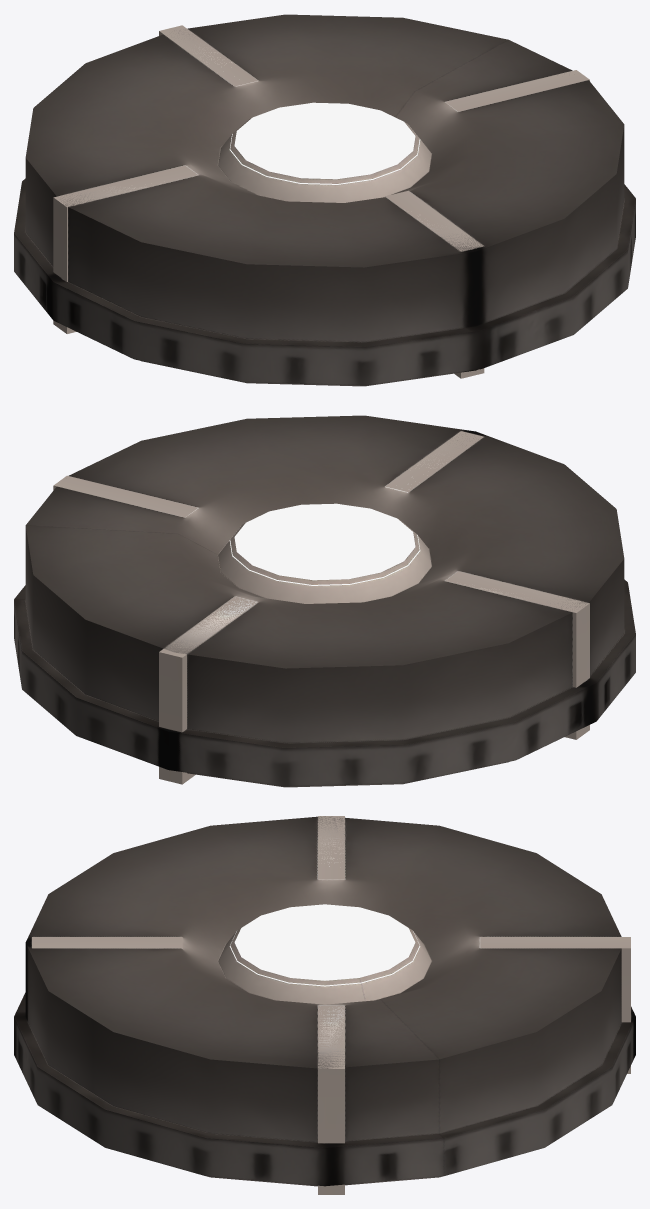
File: stage.glb
3 renders of one model, top to bottom at view 1: azimuth 30°, elevation 25°; view 2: azimuth 150°, elevation 25°; view 3: azimuth 270°, elevation 25°, orthographic.
Parts seen in each view (by area): view 1: stage; view 2: stage; view 3: stage.
Part boxes in pixels (x1,y1,x2,y2): stage: (14,14,635,386); stage: (14,415,635,787); stage: (14,816,635,1194).
Size of the model in its own units: 14.57 by 3.34 by 14.57.
Materials: 2 (1 with a texture image).
